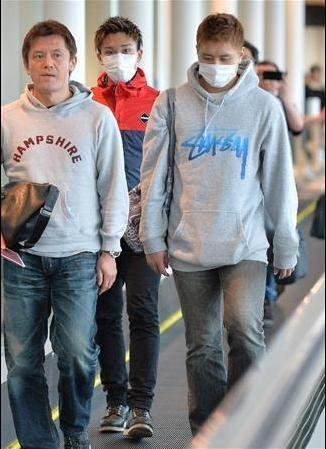NONE: (30, 46, 69, 90)
OK: (100, 40, 143, 83), (199, 49, 240, 90)
